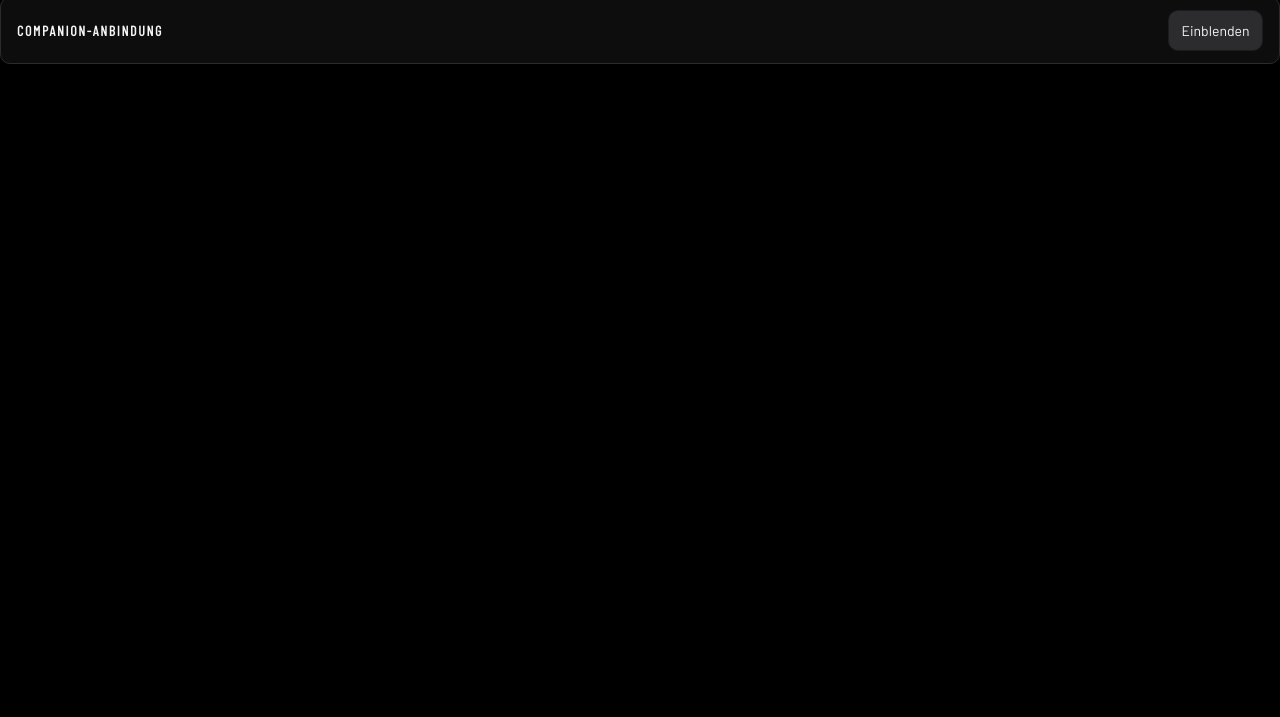
Test: AdminCompanionCard › loads summary and shows published profile info
Click the button "Einblenden": (1216, 31) [1168,10,1263,51]
(page scrolled)
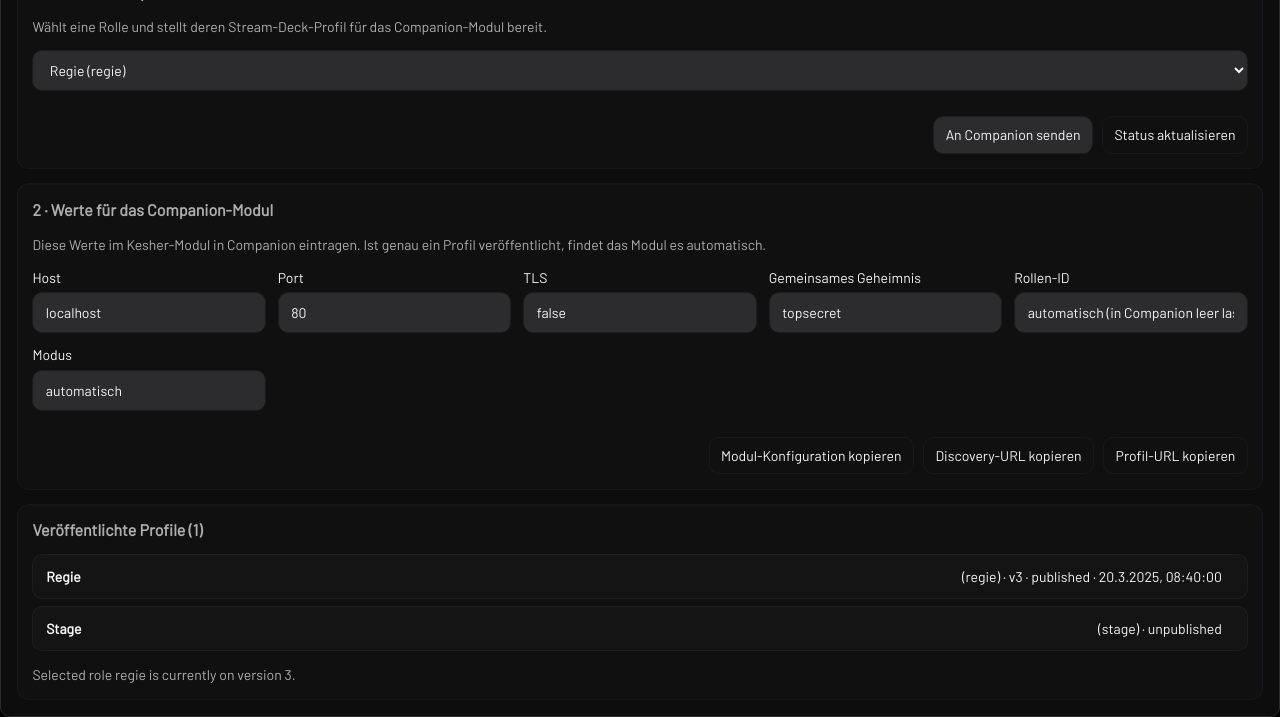
Now the field showing "topsecret" is shown, box [769,292,1002,333]
Now the heading "Veröffentlichte Profile (1)" is shown, box [32,519,202,542]
Now the text "Selected role regie is currently on version 3." is shown, box [32,666,296,682]
